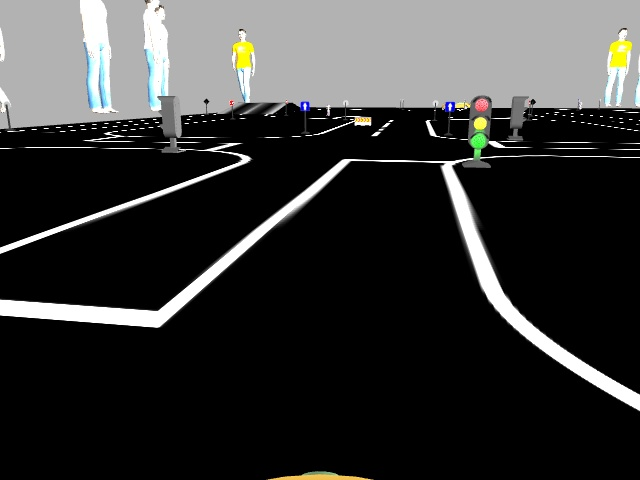ClosedRoadStand: (354, 116, 370, 124)
OneWay: (445, 100, 453, 110), (301, 101, 308, 110)
TrafficLight: (467, 94, 491, 149)
